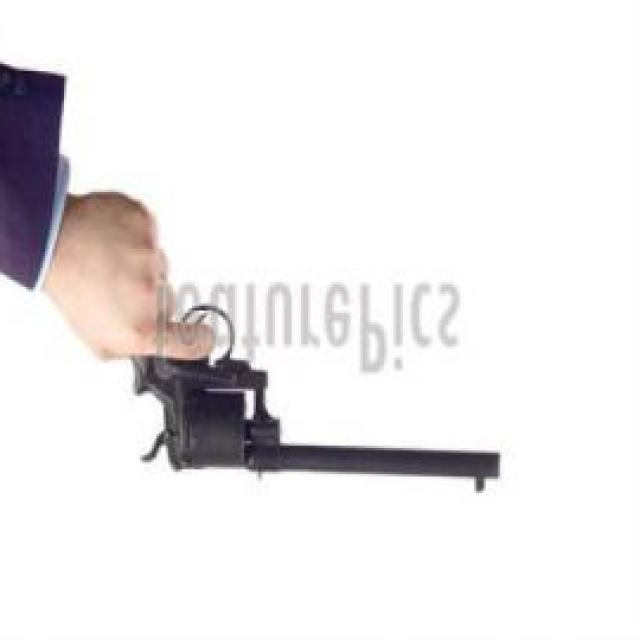pistol: (121, 250, 499, 500)
